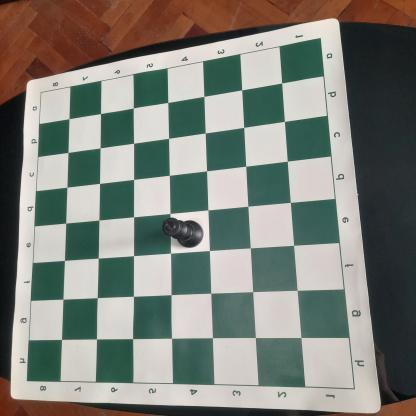black-king: (161, 217, 205, 250)
